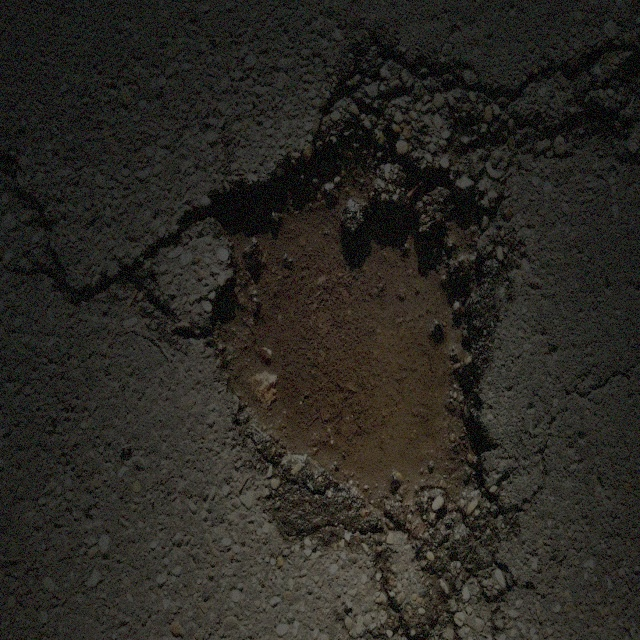pothole: (199, 112, 497, 538)
